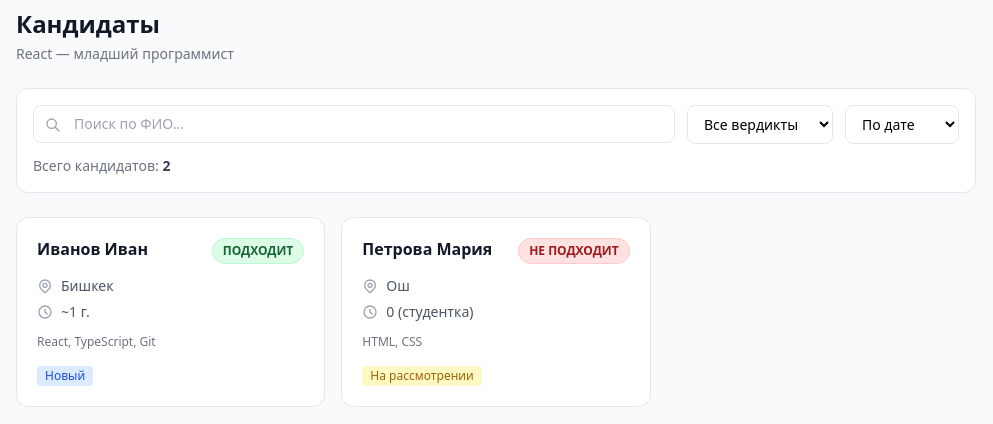
Test: CandidatesPage › filters candidates by name as the user types
In the search field with placeholder "Поиск по ФИО...": (354, 124) 33,105 -> 675,143, type "Иванов"
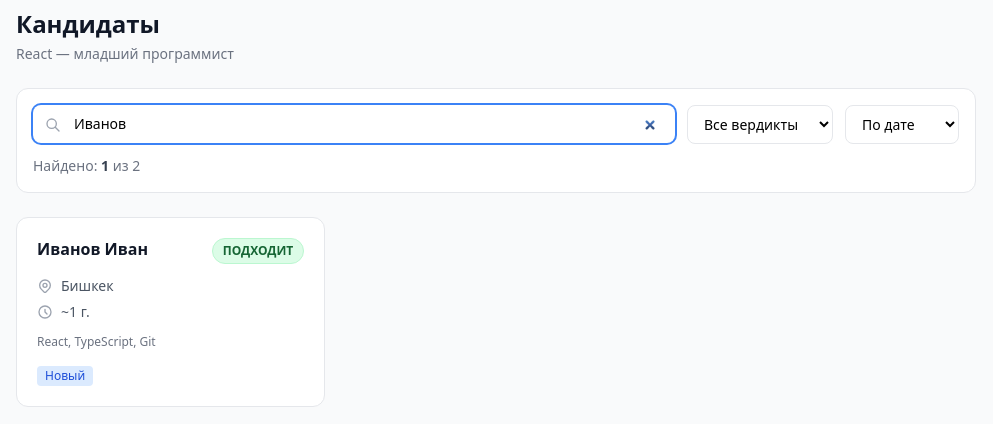
Check: the heading "Иванов Иван" is shown, box 37,238 -> 148,260
Check: the link "Петрова Мария" is gone
